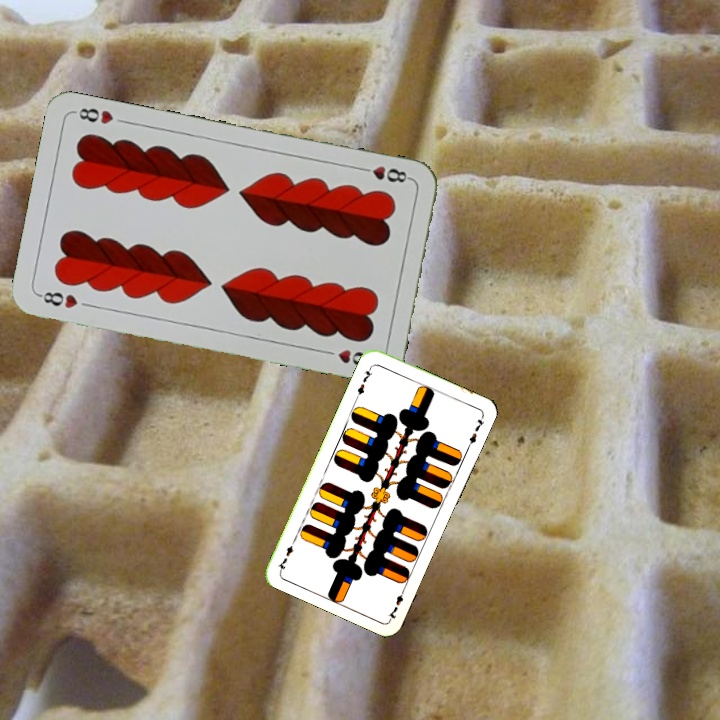E7: (352, 362, 375, 401), (385, 584, 408, 622)
H8: (355, 162, 414, 186), (35, 287, 81, 311)
